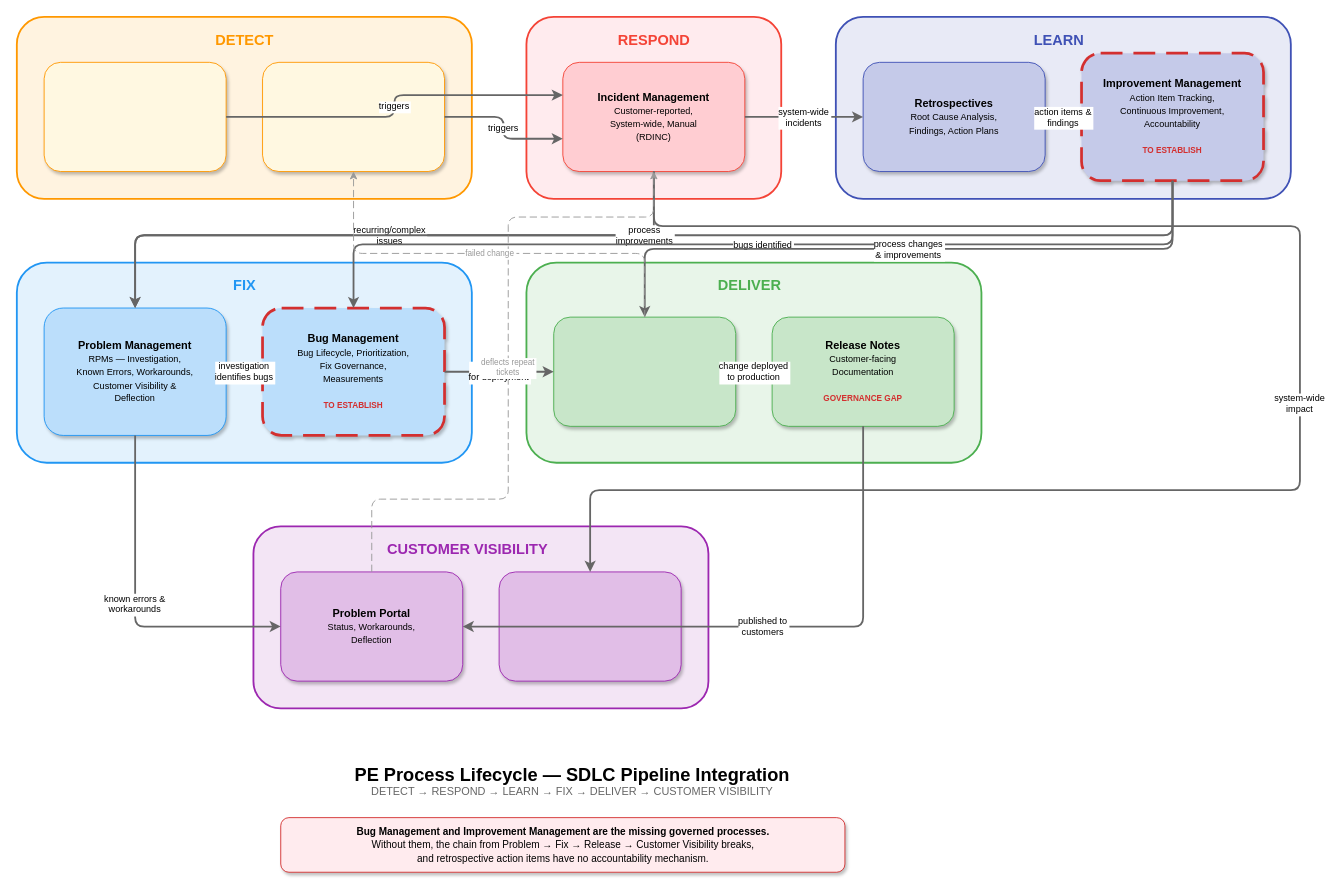
This 1342x895 diagram has some shape labels left out. The shapes that lost their labels are listed below. From the top down, each one's centre as x and y in pixels, then its label:
At pixel 136 118: "Event Management Alerts, SLO Breaches, Monitoring".
At pixel 354 118: "Failure Management CD Failures, Deployment Errors (RDODCF)".
At pixel 645 373: "Change Management RFCs, CAB, Standard/ Normal/Emergency Changes".
At pixel 591 627: "Status Page System-wide Impact Communications".
